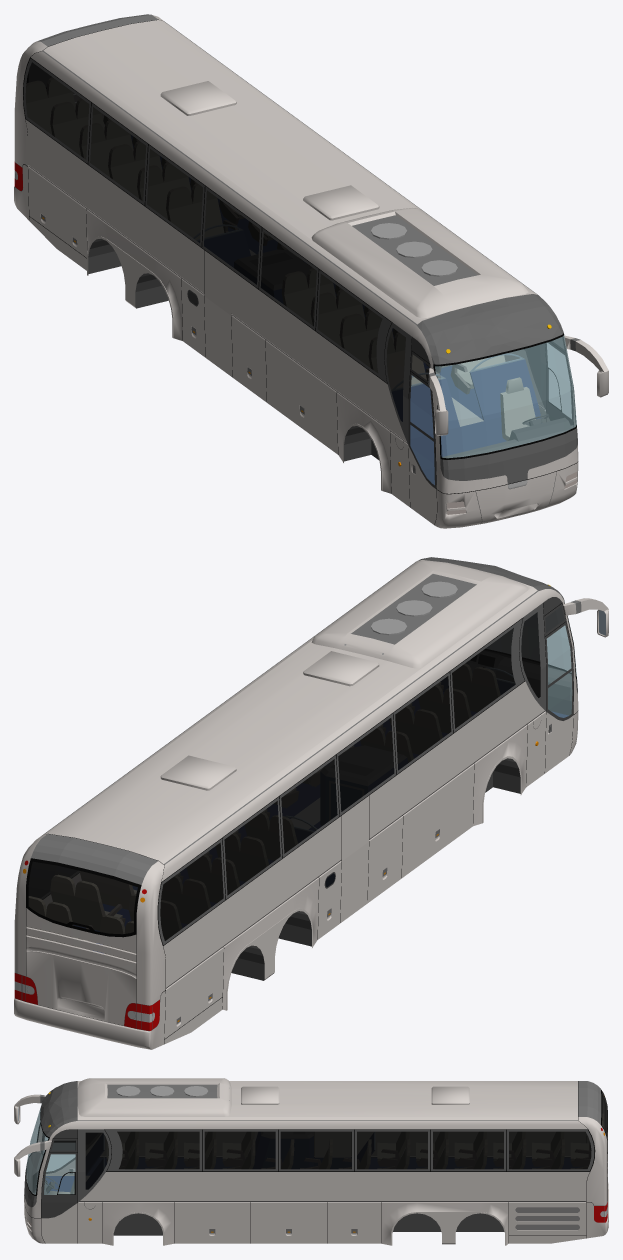
Rendered from body.fbx.
The picture shows the model from 3 angles, top to bottom: view 1: azimuth 30°, elevation 25°; view 2: azimuth 150°, elevation 25°; view 3: azimuth 270°, elevation 25°; orthographic projection. The views are drawn at different scales.
Visible parts, largest first — view 1: group1; view 2: group1; view 3: group1.
Boxes of the visible parts, x1,y1,x2,y2 form: group1: [14, 14, 608, 528]; group1: [14, 557, 608, 1049]; group1: [14, 1078, 608, 1245].
Size of the model in its own units: 124 by 136 by 553.
